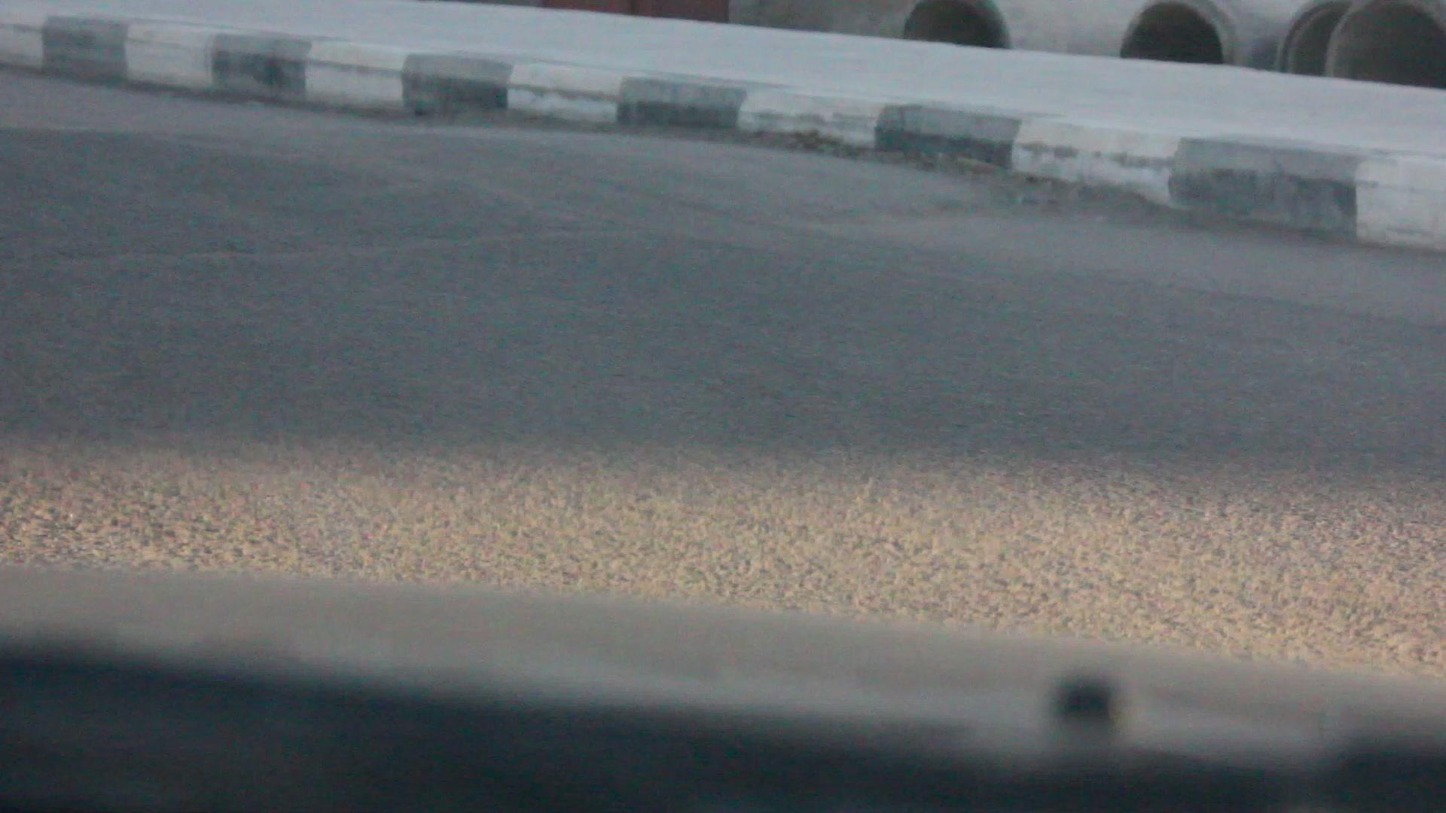Bump: (0, 92, 1066, 316)
